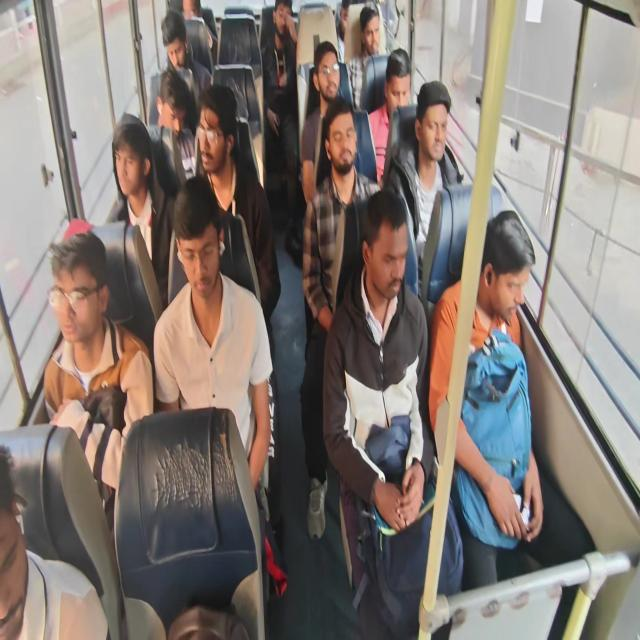person: (476, 224, 538, 334), (55, 250, 112, 353), (0, 492, 49, 608), (173, 217, 229, 316), (362, 209, 406, 304), (106, 125, 158, 204), (192, 106, 240, 188), (420, 86, 458, 158), (162, 62, 190, 129), (159, 12, 190, 67), (385, 55, 415, 105), (329, 118, 356, 173), (361, 9, 390, 55), (315, 50, 343, 92), (269, 6, 297, 42)
